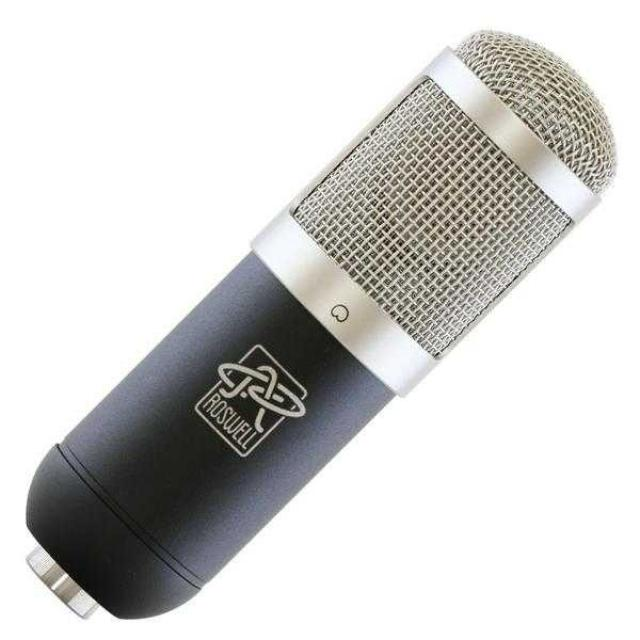microphone: (30, 31, 608, 623)
